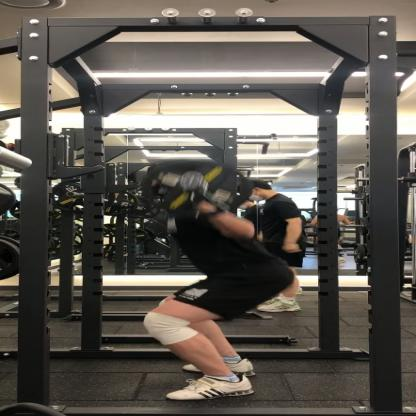Barbell: (119, 152, 256, 224)
